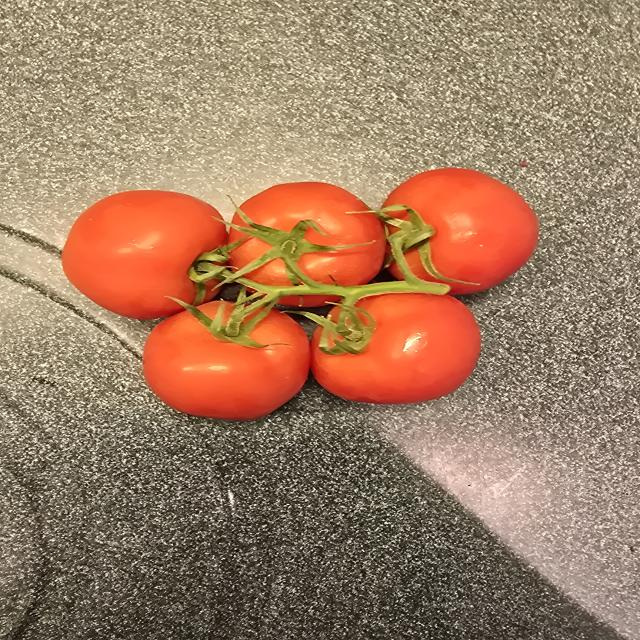Tomato: (62, 190, 228, 320), (143, 301, 311, 420), (383, 168, 538, 294), (311, 293, 481, 404), (225, 183, 385, 293)
